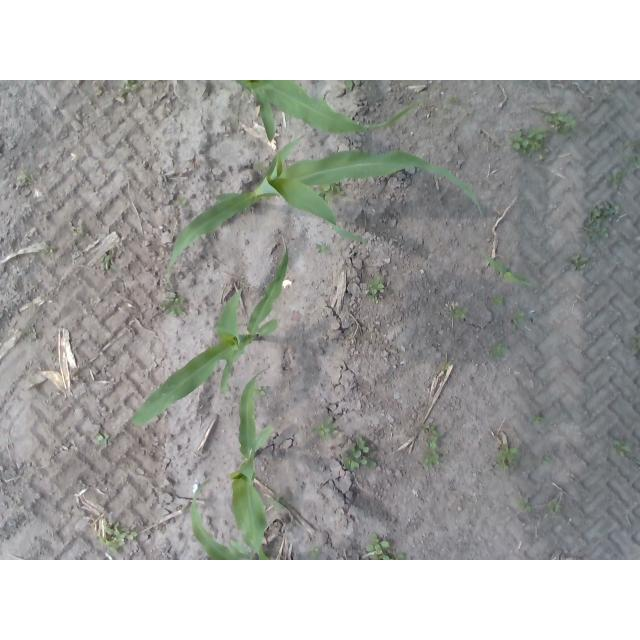Maize: (166, 134, 485, 282), (127, 236, 290, 429), (236, 81, 416, 142), (230, 369, 286, 560), (191, 478, 257, 560)
Weeds: (486, 254, 530, 289), (586, 203, 619, 241), (342, 439, 377, 471), (104, 522, 137, 548), (514, 129, 543, 154), (162, 292, 187, 317), (497, 444, 519, 468), (321, 417, 339, 441), (368, 532, 389, 552), (324, 184, 344, 201), (631, 326, 640, 359), (573, 254, 590, 271), (614, 442, 631, 459), (560, 115, 576, 131), (266, 494, 282, 510), (425, 450, 440, 466), (102, 253, 114, 272), (369, 282, 388, 294), (315, 243, 330, 257), (489, 346, 507, 357), (311, 425, 329, 436), (547, 110, 561, 123), (453, 307, 468, 319), (608, 174, 623, 186), (370, 553, 395, 560), (520, 497, 532, 511), (97, 434, 111, 446), (421, 425, 435, 436), (344, 81, 360, 90), (550, 500, 562, 512), (123, 81, 137, 91), (629, 158, 639, 171), (257, 387, 268, 398), (540, 125, 549, 138), (178, 195, 188, 206), (17, 172, 27, 183), (493, 295, 503, 306), (309, 548, 320, 558), (44, 244, 56, 253), (426, 438, 438, 447), (538, 456, 550, 464), (513, 310, 523, 319), (536, 414, 545, 423), (450, 95, 459, 102), (470, 244, 475, 250), (444, 365, 450, 370)
